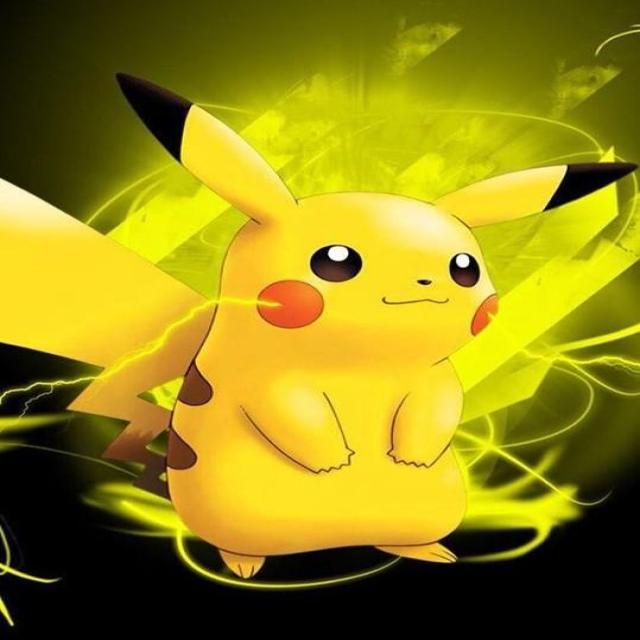pikachu: (0, 72, 640, 579)
